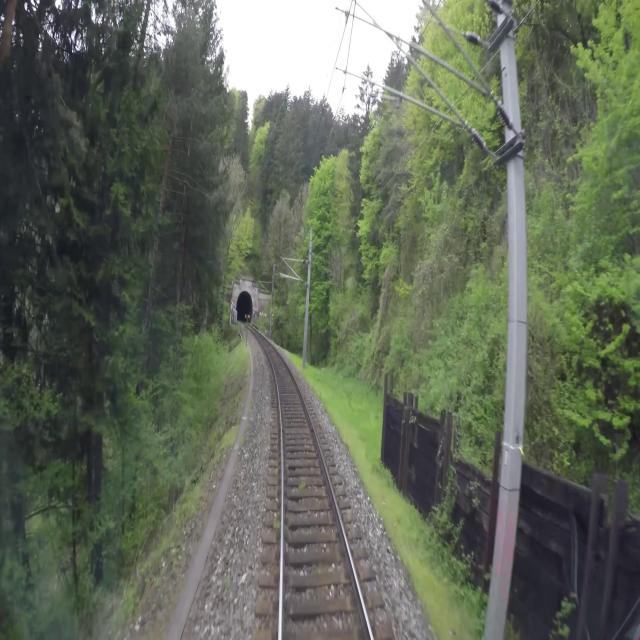rail-track: (260, 337, 369, 639)
